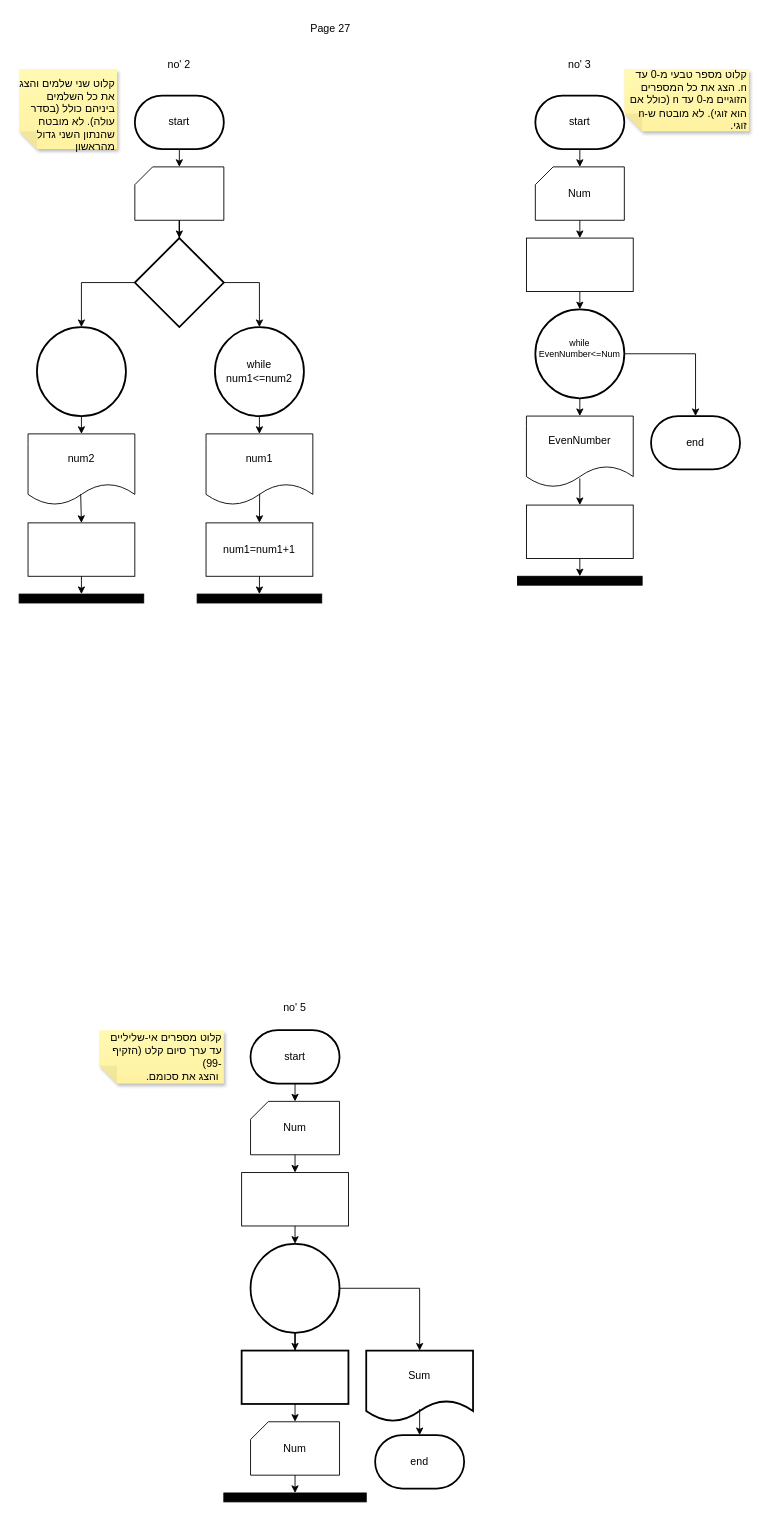
Some shapes in this 769 by 1517 pixel diagram are drawn without their labels. The shapes that lost their labels are listed below. From the top down, each one's centre as x and y in pixels, then its label:
At (179,193): "num1,num2".
At (179,282): "num1>num2".
At (579,264): "EvenNumber=0".
At (81,371): "while num2<=num1".
At (81,549): "num2=num2+1".
At (579,531): "EvenNumber= EvenNumber+2".
At (294,1199): "Sum=0".
At (294,1287): "while Num!= -99".
At (294,1376): "Sum=Sum+Num".
